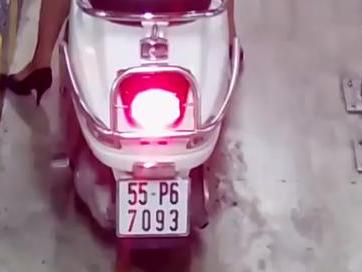num_plate: (116, 178, 190, 237)
